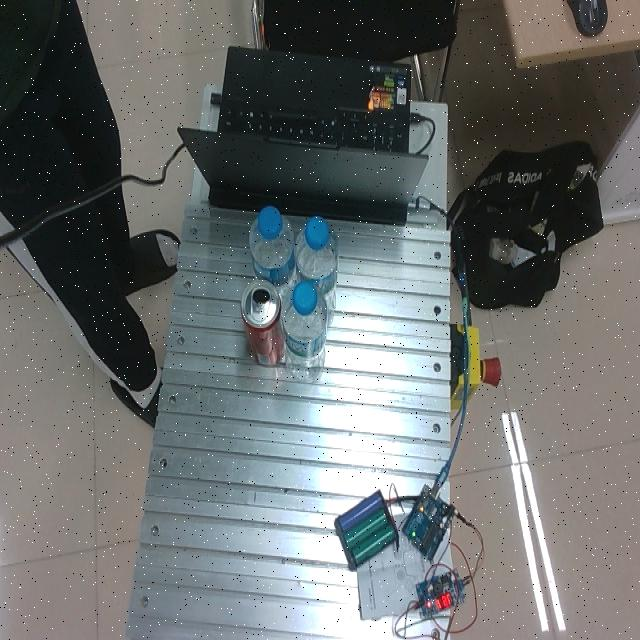coca: (241, 278, 285, 366)
lavie: (282, 279, 330, 381), (295, 215, 339, 324), (249, 207, 297, 293)
